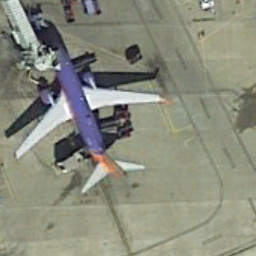Airplane: (9, 9, 170, 211)
